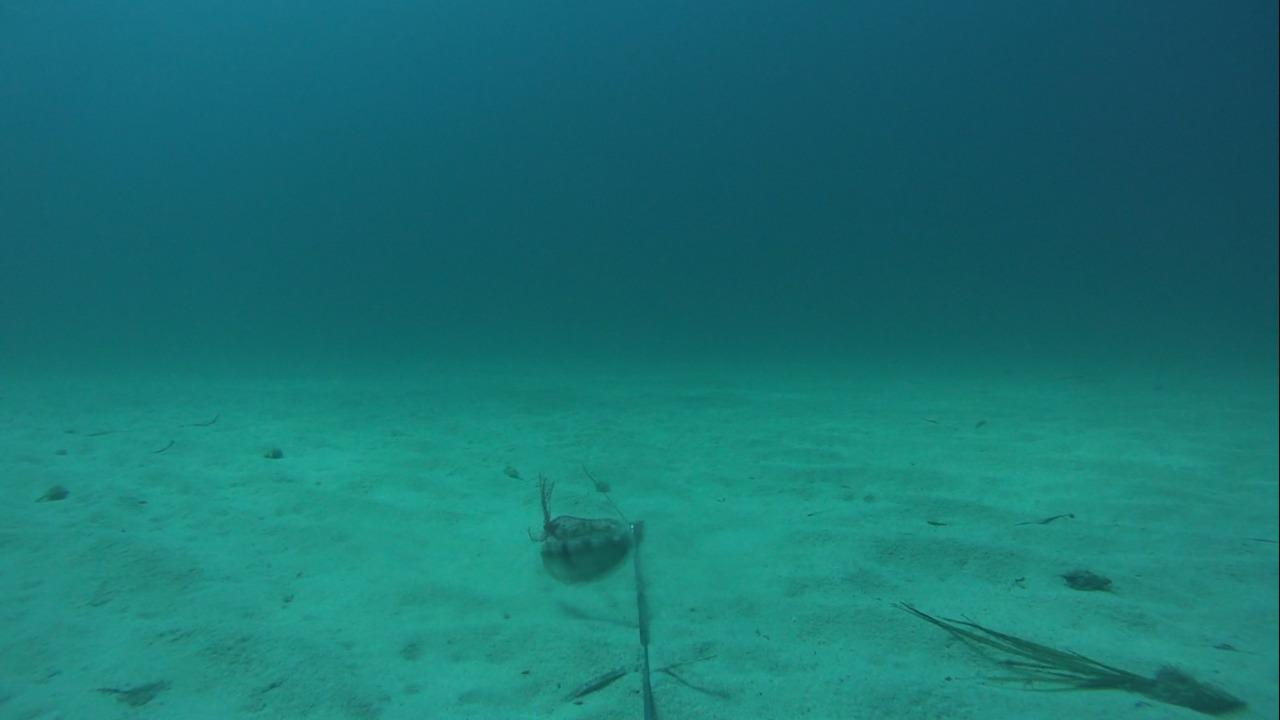raor: (536, 516, 649, 588)
